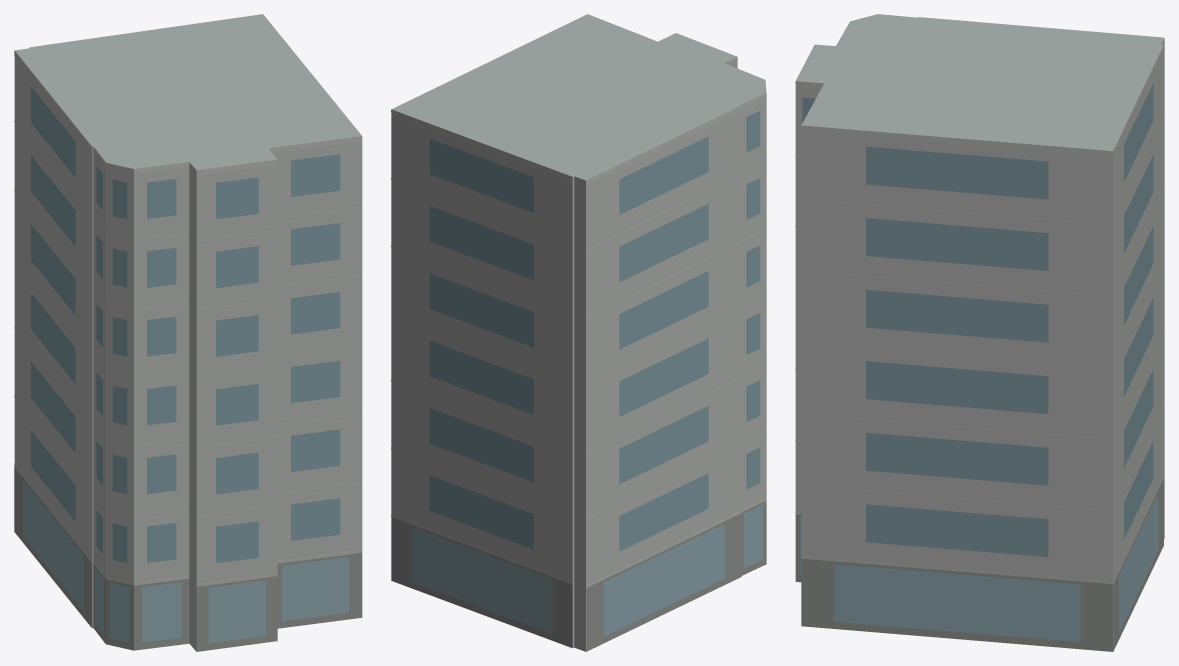
Rendered from survey-upis-32665027.glb.
3 renders of one model, left to right at view 1: azimuth 30°, elevation 25°; view 2: azimuth 150°, elevation 25°; view 3: azimuth 270°, elevation 25°, orthographic. The views are drawn at different scales.
Visible parts, largest first — view 1: survey-upis-32665027.tmp; view 2: survey-upis-32665027.tmp; view 3: survey-upis-32665027.tmp.
Boxes of the visible parts, x1,y1,x2,y2 form: survey-upis-32665027.tmp: (14, 14, 362, 651); survey-upis-32665027.tmp: (391, 14, 766, 651); survey-upis-32665027.tmp: (795, 14, 1164, 651).
Size of the model in its own units: 12.42 by 21.1 by 14.11.
